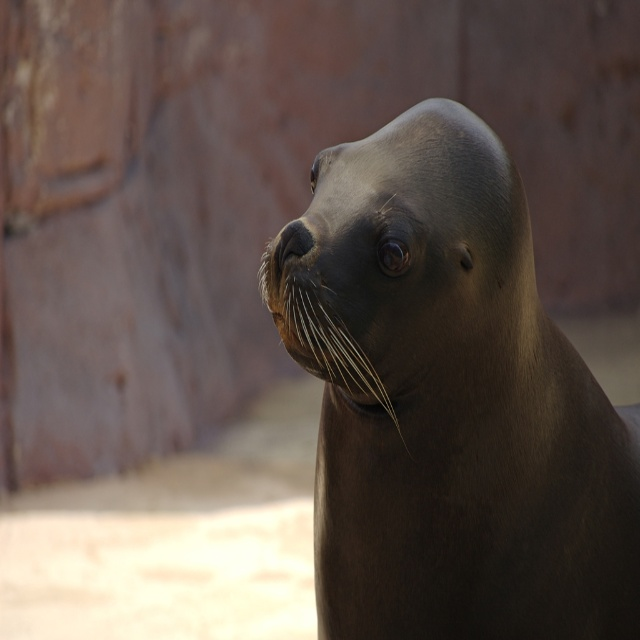Sea lion: (256, 95, 640, 639)
